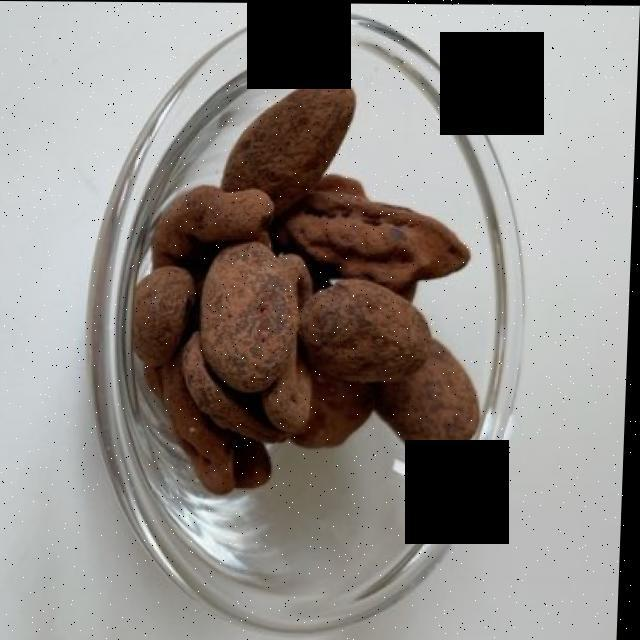nuts: (140, 83, 482, 484)
